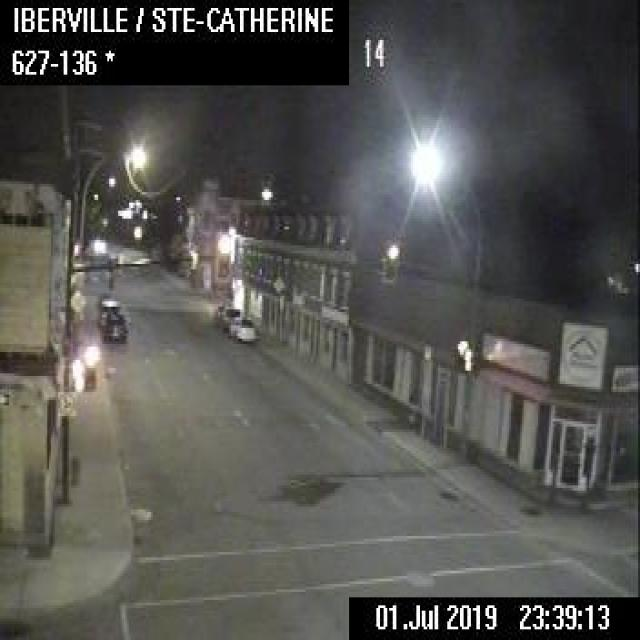vehicle: (226, 315, 256, 341), (101, 311, 126, 341), (214, 300, 239, 326), (98, 295, 119, 325)
